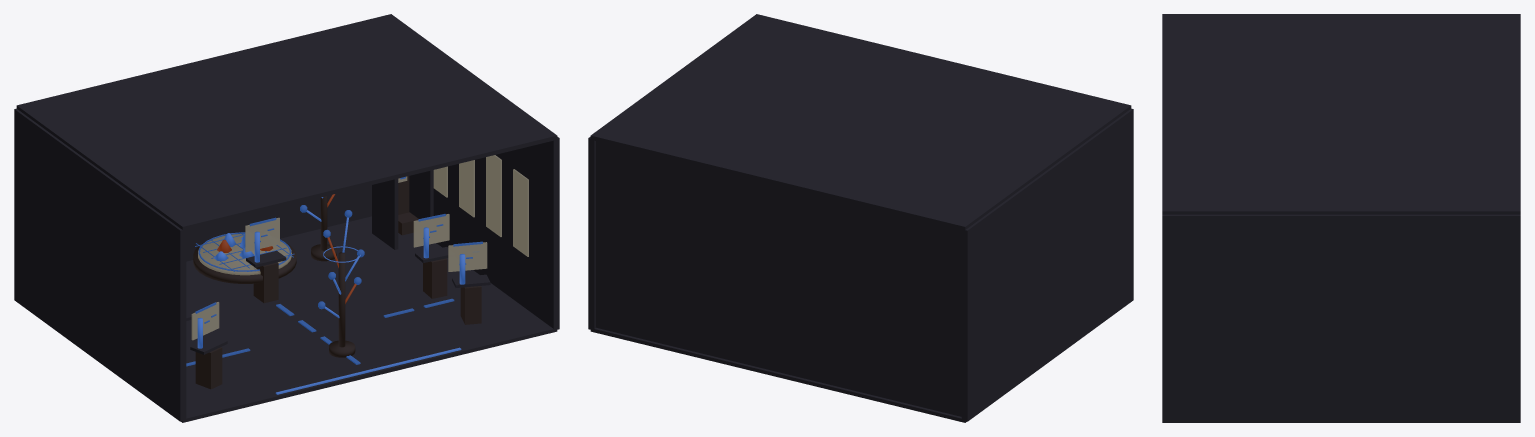
Rendered from career-int-draft-s31.glb.
3 renders of one model, left to right at view 1: azimuth 30°, elevation 25°; view 2: azimuth 150°, elevation 25°; view 3: azimuth 270°, elevation 25°, orthographic. The views are drawn at different scales.
Parts seen in each view (by area): view 1: executive_command_room_shell_base_joined, side_wall_vertical_inactive_glass_panels, ai_career_advisor_detail_joined, ai_career_advisor_glass_joined, deep_focus_productivity_booth_base_joined, skill_growth_tree_detail_joined, strategy_room_interactive_map_table_glass_surface, ai_career_advisor_base_joined, strategy_room_interactive_map_table_round_base, ai_career_advisor_accent_joined, deep_focus_productivity_booth_detail_joined, strategy_room_emissive_joined (+2 smaller); view 2: executive_command_room_shell_base_joined; view 3: executive_command_room_shell_base_joined.
Part boxes in pixels (left/top/right/bottom): executive_command_room_shell_base_joined: left=14, top=14, right=559, bottom=422; side_wall_vertical_inactive_glass_panels: left=433, top=155, right=528, bottom=256; ai_career_advisor_detail_joined: left=195, top=258, right=481, bottom=389; ai_career_advisor_glass_joined: left=191, top=214, right=487, bottom=340; deep_focus_productivity_booth_base_joined: left=372, top=170, right=433, bottom=249; skill_growth_tree_detail_joined: left=311, top=196, right=355, bottom=357; strategy_room_interactive_map_table_glass_surface: left=198, top=234, right=291, bottom=275; ai_career_advisor_base_joined: left=186, top=247, right=490, bottom=354; strategy_room_interactive_map_table_round_base: left=193, top=242, right=296, bottom=283; ai_career_advisor_accent_joined: left=197, top=227, right=465, bottom=348; deep_focus_productivity_booth_detail_joined: left=398, top=176, right=418, bottom=235; strategy_room_emissive_joined: left=195, top=232, right=294, bottom=271; executive_command_room_shell_base_joined: left=588, top=14, right=1133, bottom=422; executive_command_room_shell_base_joined: left=1162, top=14, right=1520, bottom=422.
Bounding box in the file's own units: 11.34 × 5.6 × 8.6.
